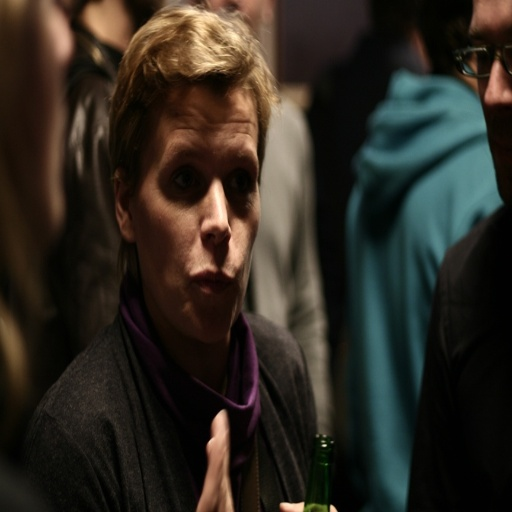hand: (193, 412, 235, 496), (279, 500, 338, 511)
